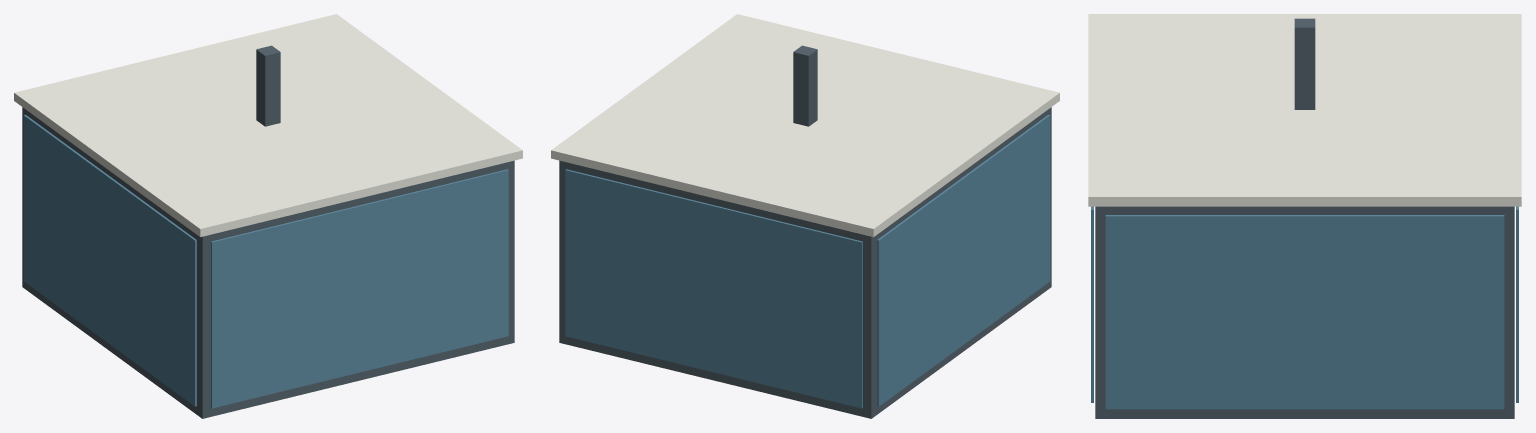
The model's file is videocube.glb.
3 views of the same model, side by side, from view 1: azimuth 30°, elevation 25°; view 2: azimuth 150°, elevation 25°; view 3: azimuth 270°, elevation 25° (orthographic). The views are drawn at different scales.
Visible parts, largest first — view 1: video-cube; view 2: video-cube; view 3: video-cube.
Part boxes in pixels (x1=…): video-cube: x1=14, y1=14, x2=522, y2=418; video-cube: x1=551, y1=14, x2=1059, y2=418; video-cube: x1=1088, y1=14, x2=1521, y2=418.
Bounding box in the file's own units: 6.2 × 4.85 × 6.2.
